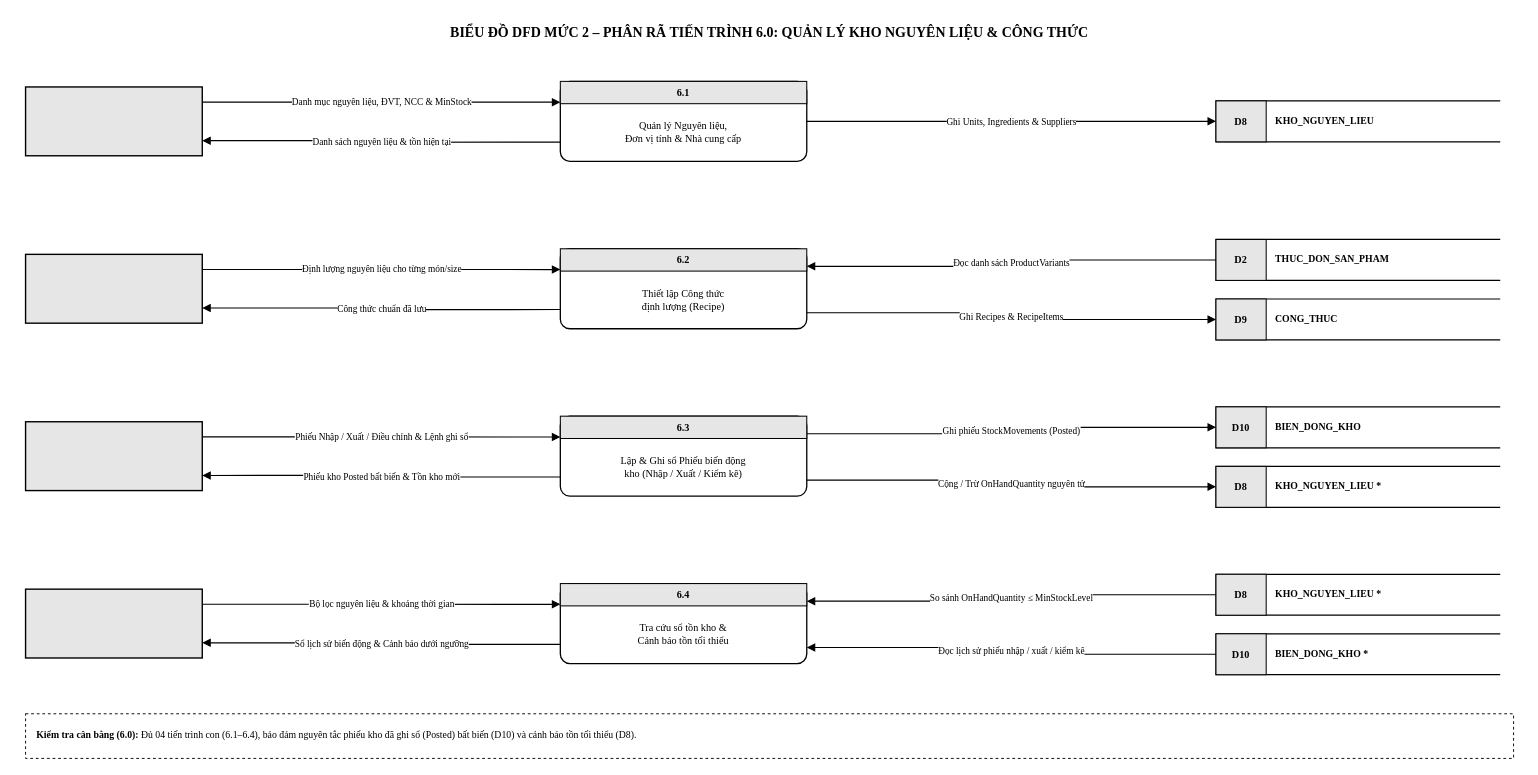
This 1538x775 diagram has some shape labels left out. The shapes that lost their labels are listed below. From the top down, each one's centre as x and y in pixels, then its label:
At [113,121]: "Nhân viên kho (INVENTORY_STAFF)".
At [113,288]: "Quản lý (MANAGER)".
At [113,456]: "Nhân viên kho (INVENTORY_STAFF) *".
At [113,623]: "Nhân viên kho / Quản lý (INV_STAFF / MANAGER)".
